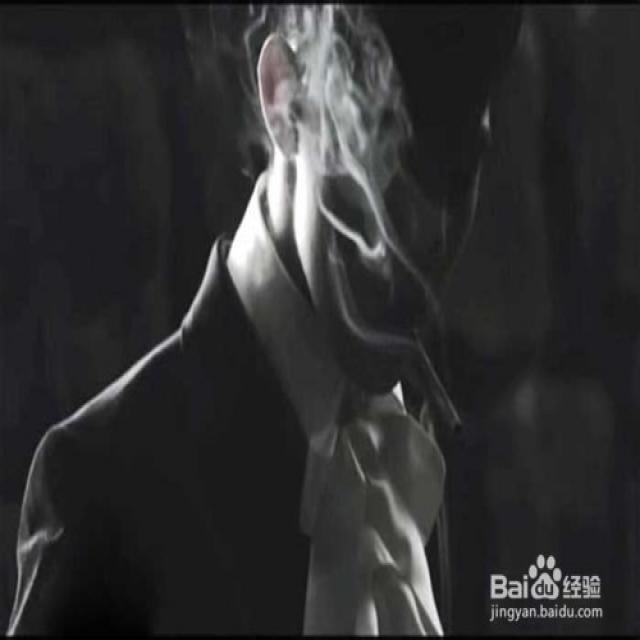cigarette: (405, 357, 459, 438)
